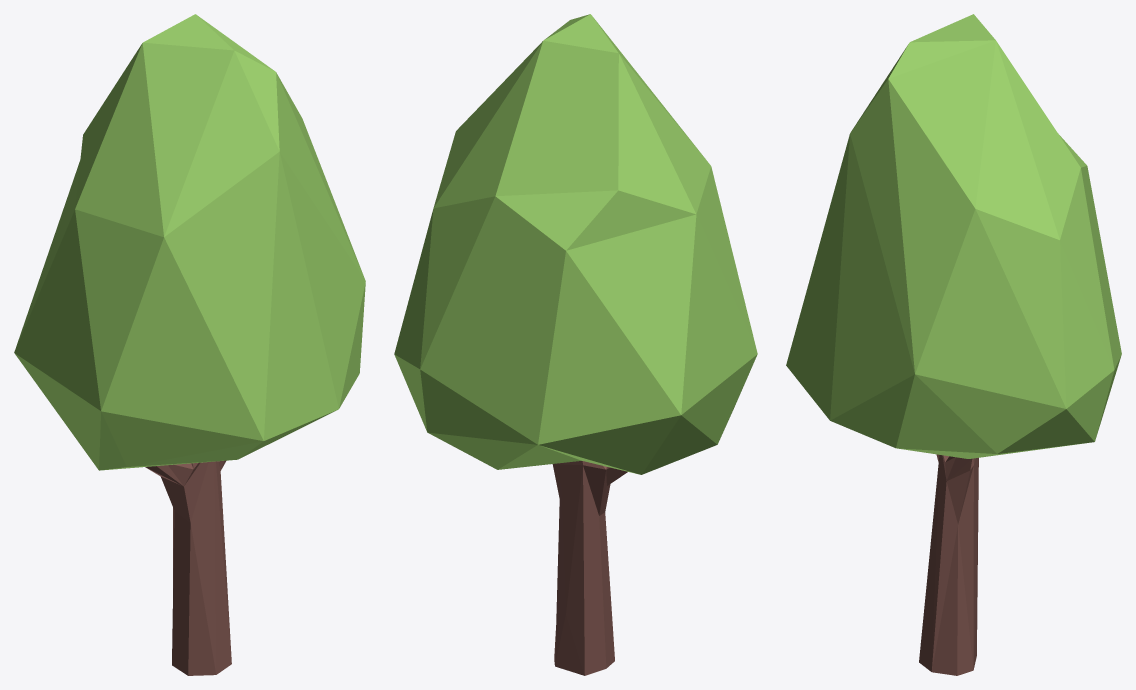
Rendered from tree-oval.glb.
3 renders of one model, left to right at view 1: azimuth 30°, elevation 25°; view 2: azimuth 150°, elevation 25°; view 3: azimuth 270°, elevation 25°, orthographic.
Parts seen in each view (by area): view 1: leaves, trunk; view 2: leaves, trunk; view 3: leaves, trunk.
Boxes of the visible parts, left/top/right/bottom form: leaves: left=14, top=14, right=365, bottom=470; trunk: left=145, top=460, right=231, bottom=675; leaves: left=394, top=14, right=757, bottom=474; trunk: left=552, top=461, right=627, bottom=675; leaves: left=786, top=14, right=1121, bottom=458; trunk: left=919, top=454, right=978, bottom=675.
Bounding box in the file's own units: 4.07 × 8.47 × 4.08.
